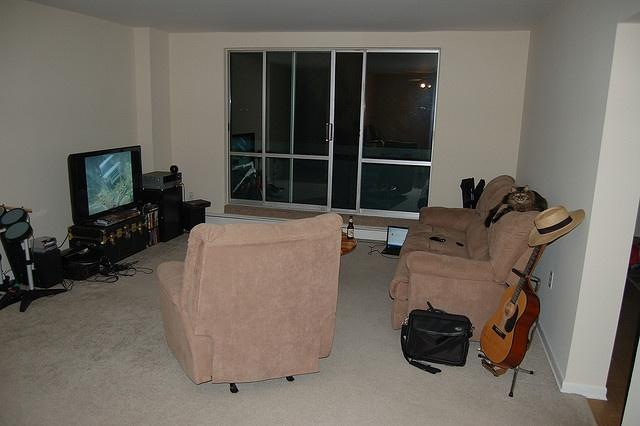AIO PC-Monitor-TV: (65, 144, 143, 224)
